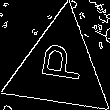P_W: (33, 46, 85, 90)
